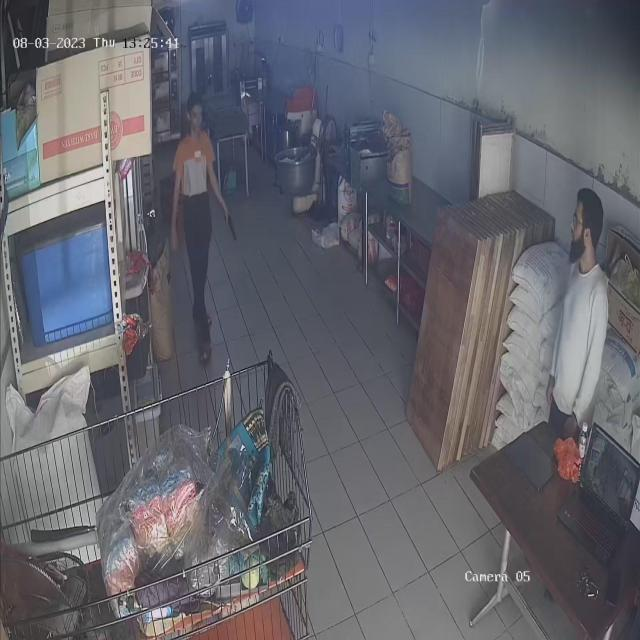Gun: (219, 205, 243, 245)
